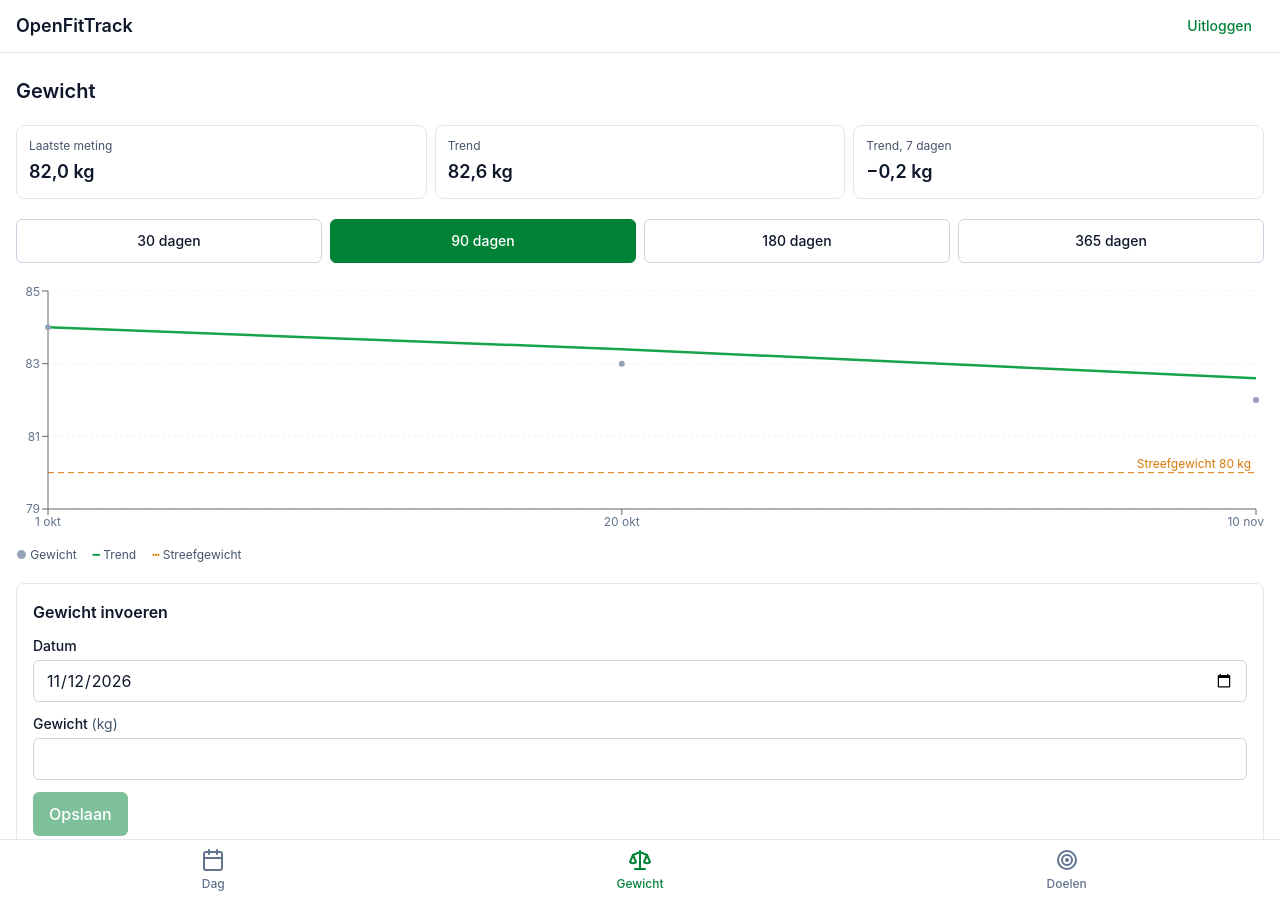
Test: logging weight › refuses an implausible weight
This screenshot has width=1280, height=900.
In the field labelled "Gewicht (kg)": (640,759) [33,738,1247,780], type "8"
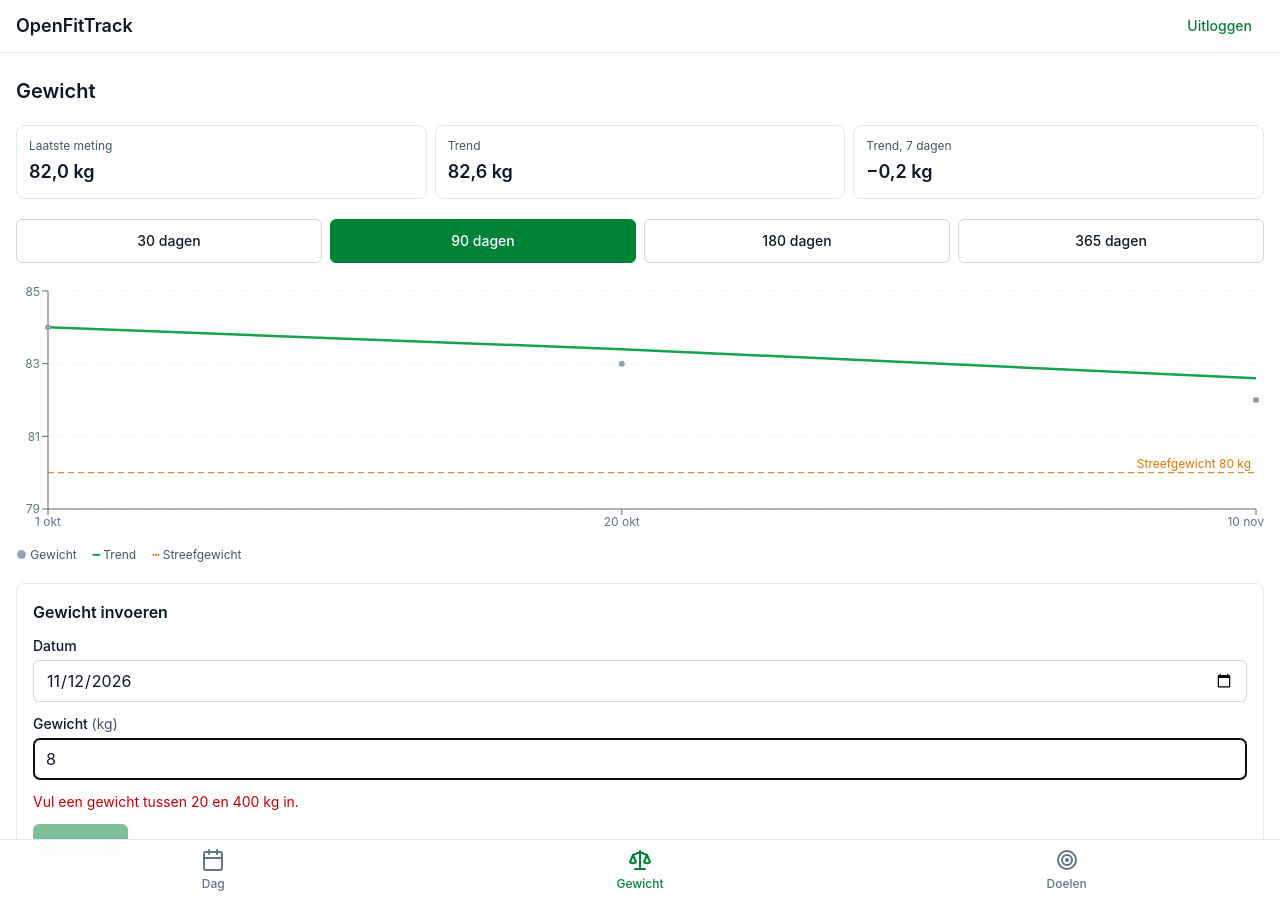
Check: the button "Opslaan" is disabled, box [33,824,128,868]
Check: the message shows "tussen 20 en 400 kg", box [33,793,299,810]
